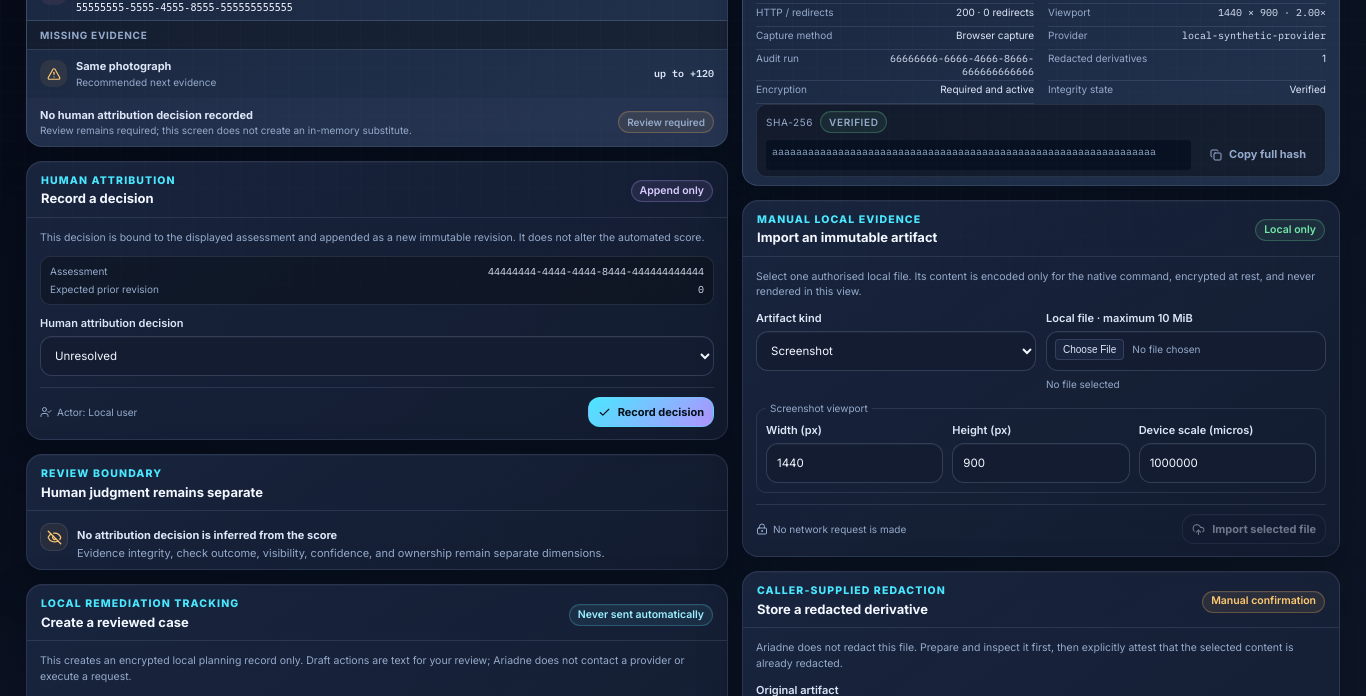
it: native Phase 5 findings UI › appends a human decision against the displayed assessment revision
(page scrolled)
Step 1. Select "Probable" in the dropdown labelled "Human attribution decision" → x=377, y=356, box [40,336,714,376]
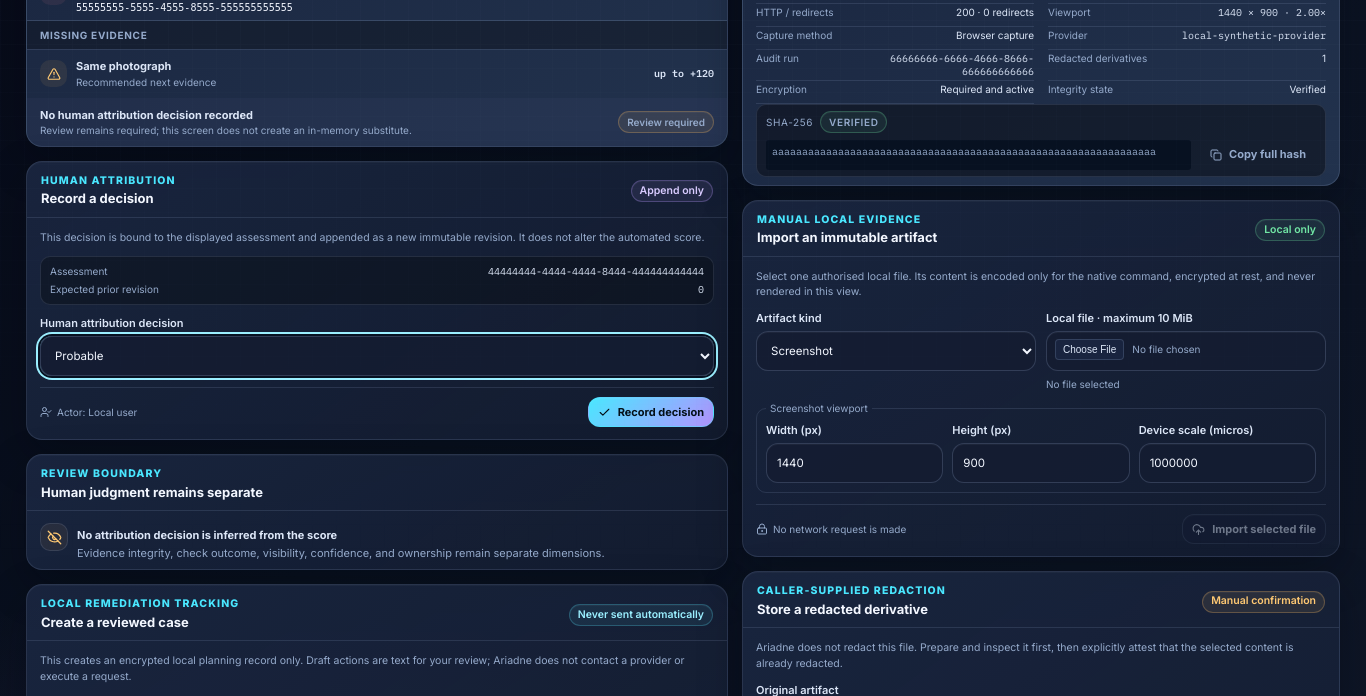
Step 2. Click the button "Record decision" → x=651, y=412, box [588,397,714,427]
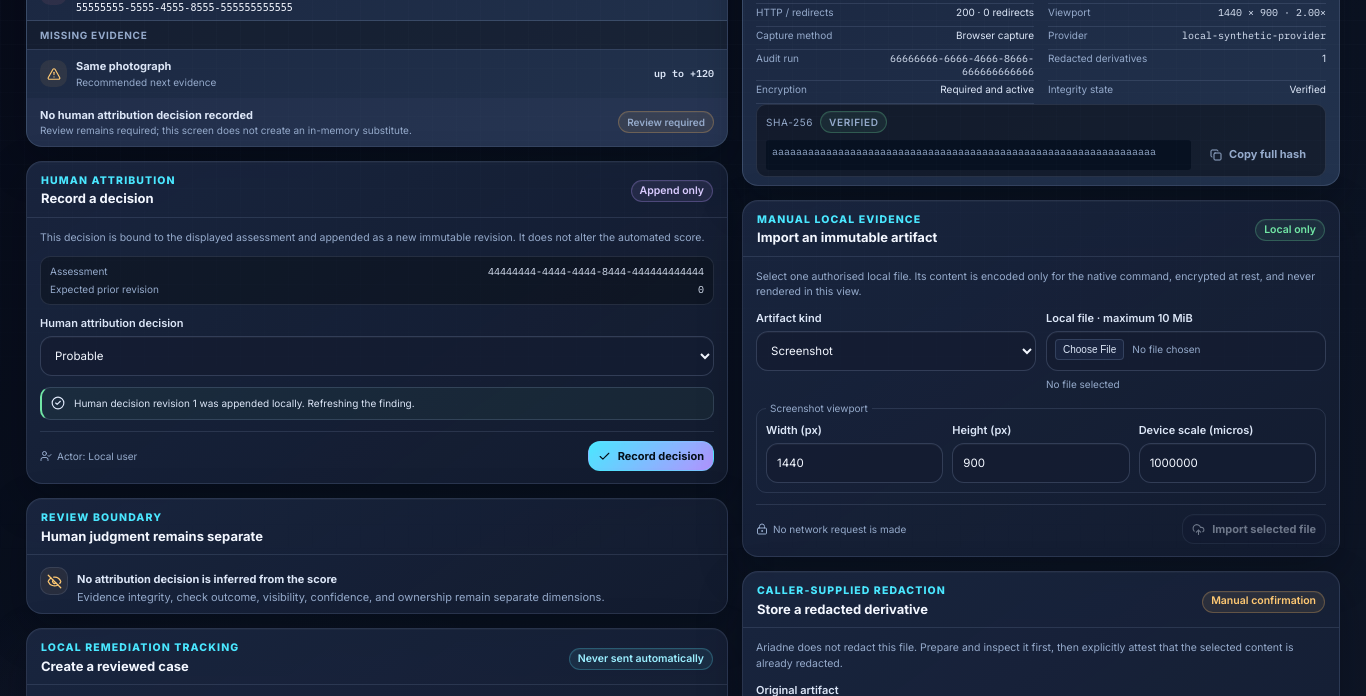
Now the text "decision revision 1 was appended locally" is shown, box [74,397,414,409]
